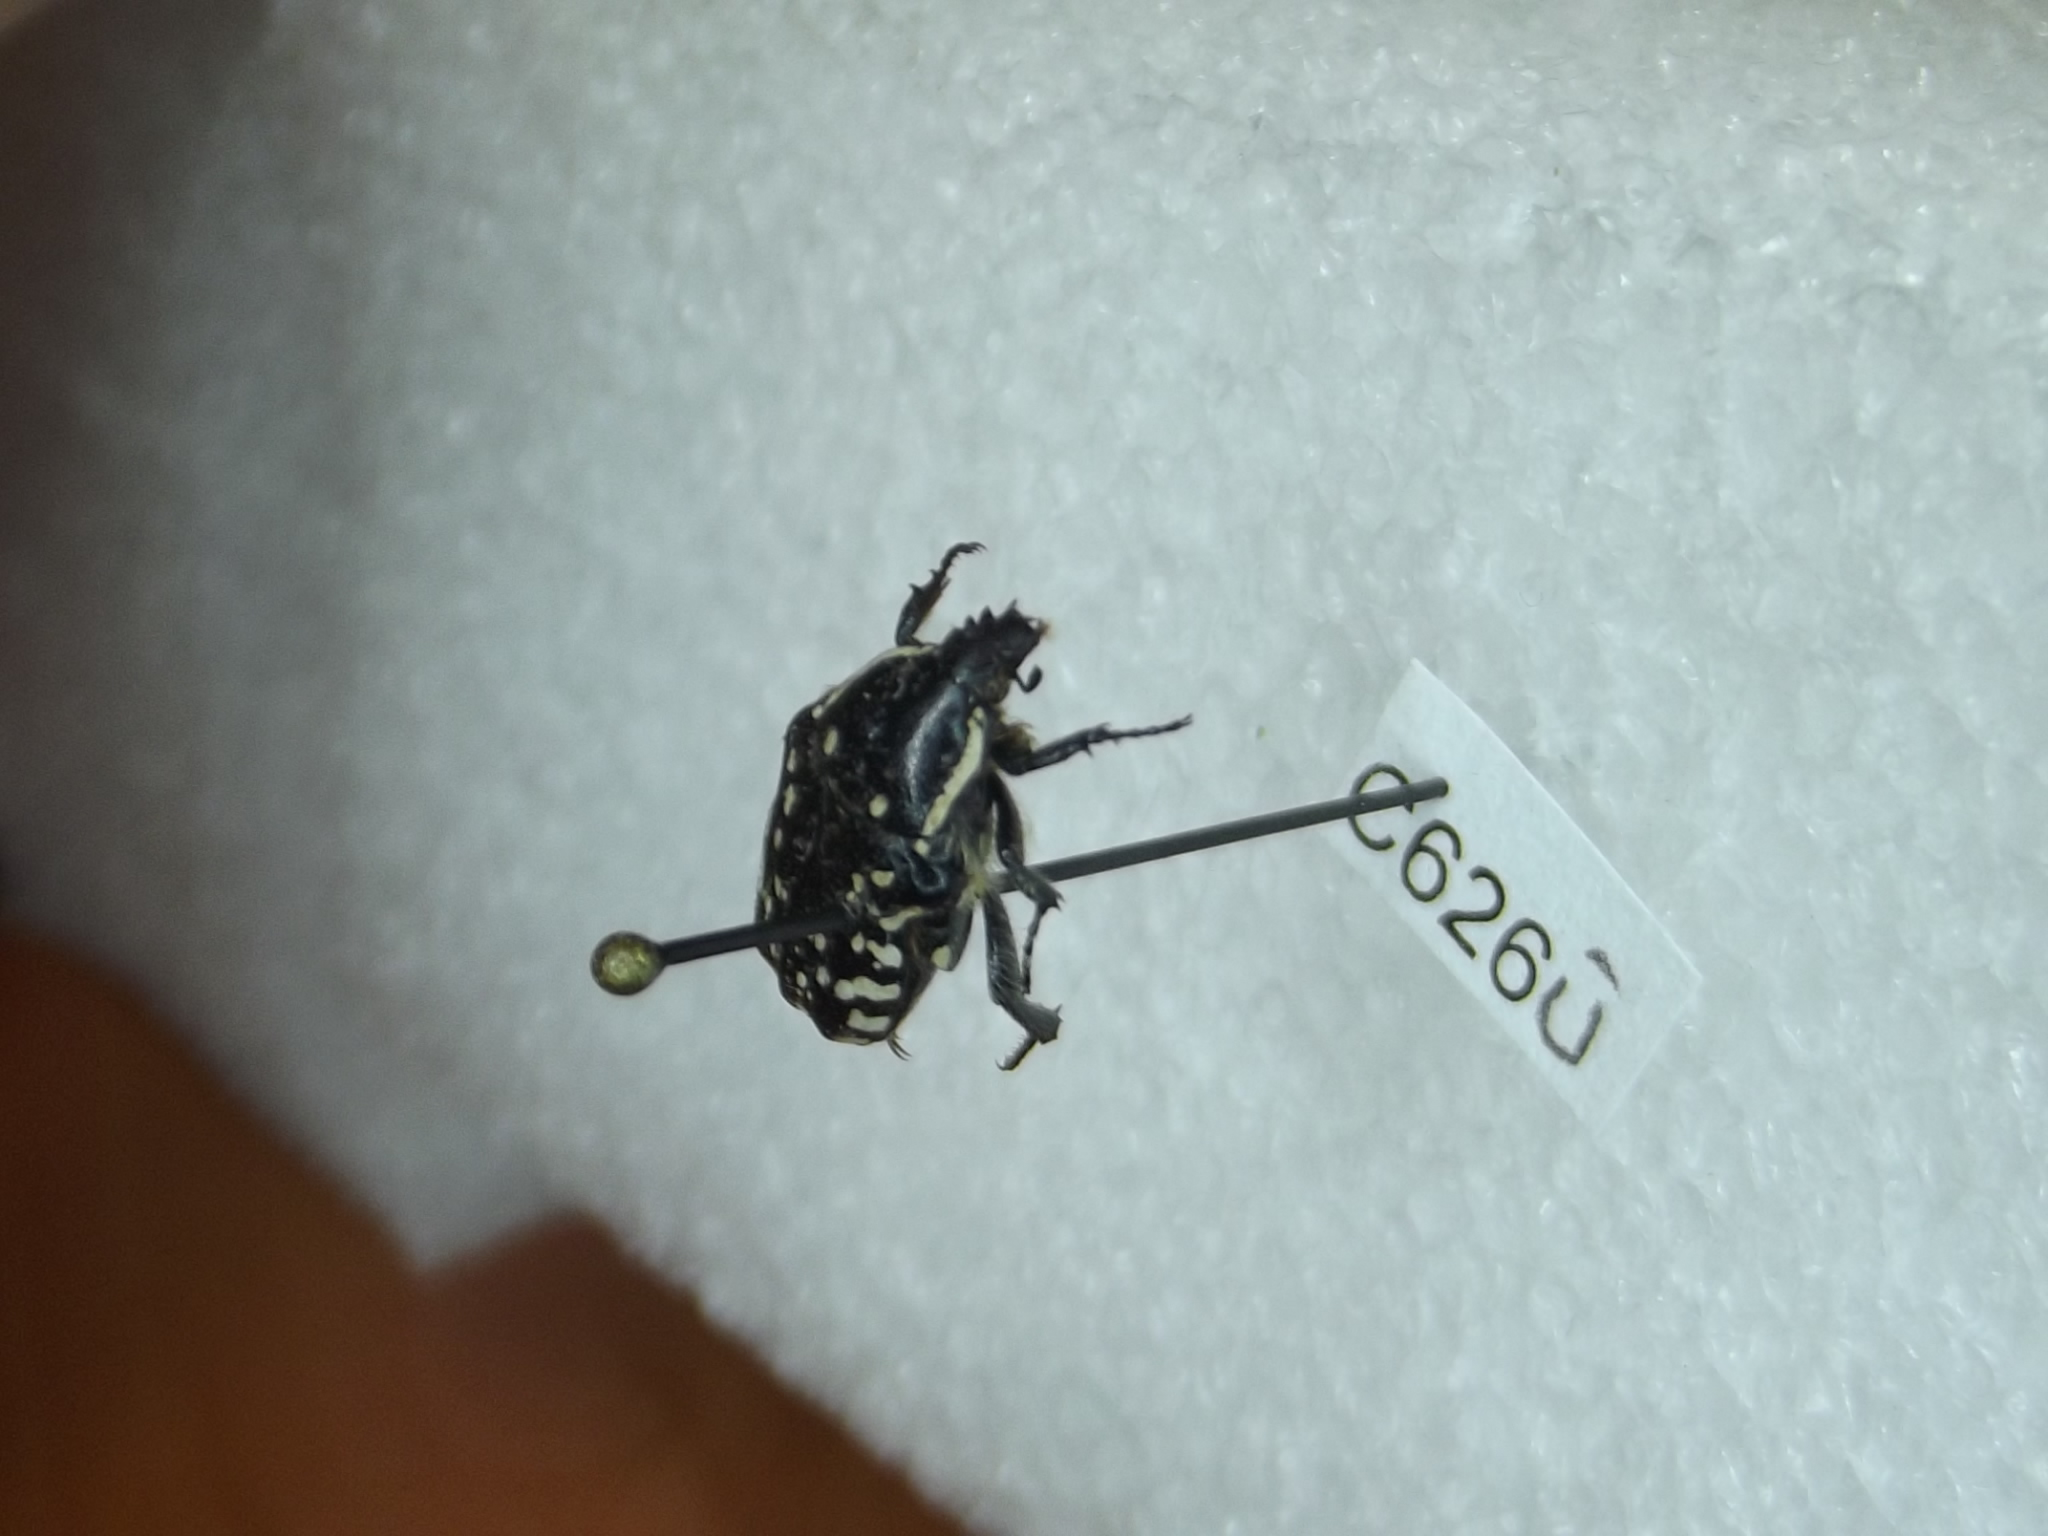Oxythyrea_funesta: (755, 529, 1200, 1089)
